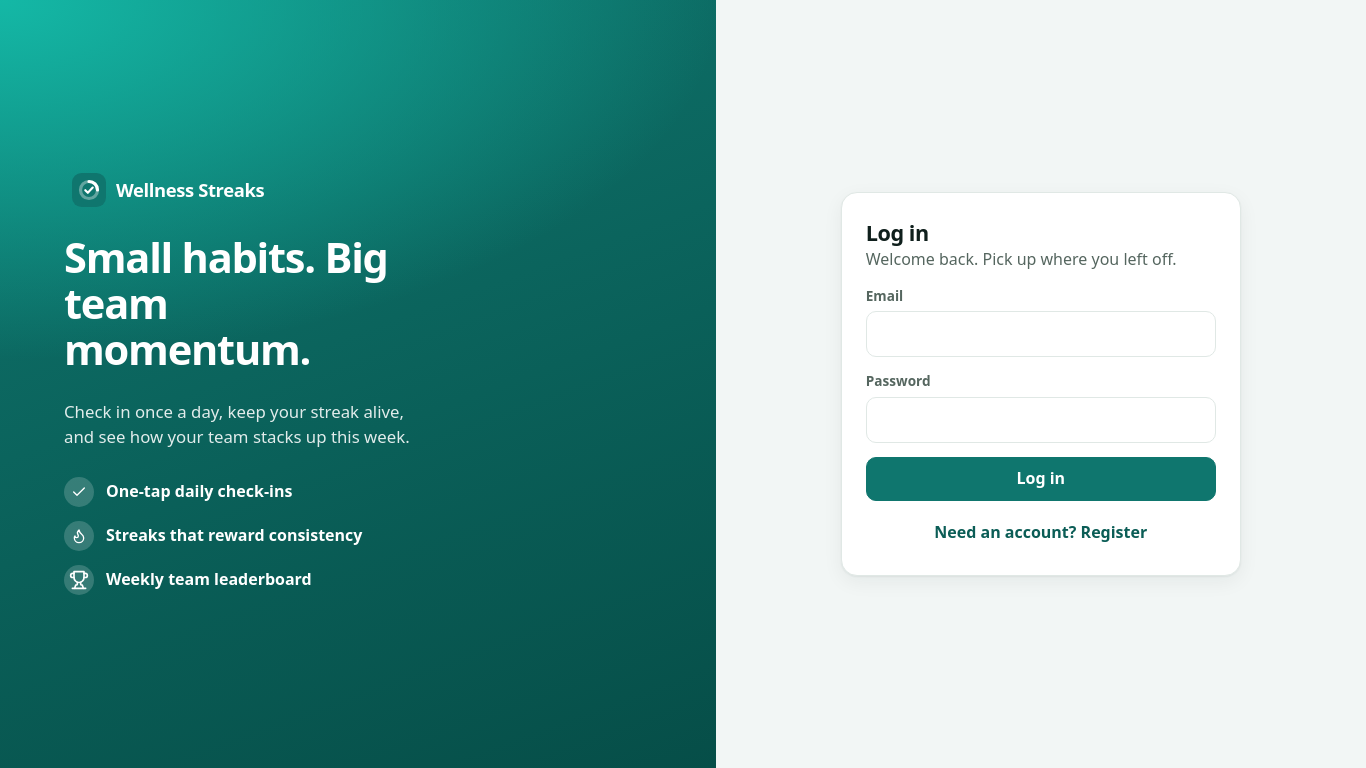
login flow › redirects to login, logs in, lands on Today
This screenshot has width=1366, height=768.
Expected: the heading "Log in" is shown, [866,218,929,247]
Type "user@example.com" into the field labelled "Email". click: (1041, 334)
box: [866,311,1216,357]
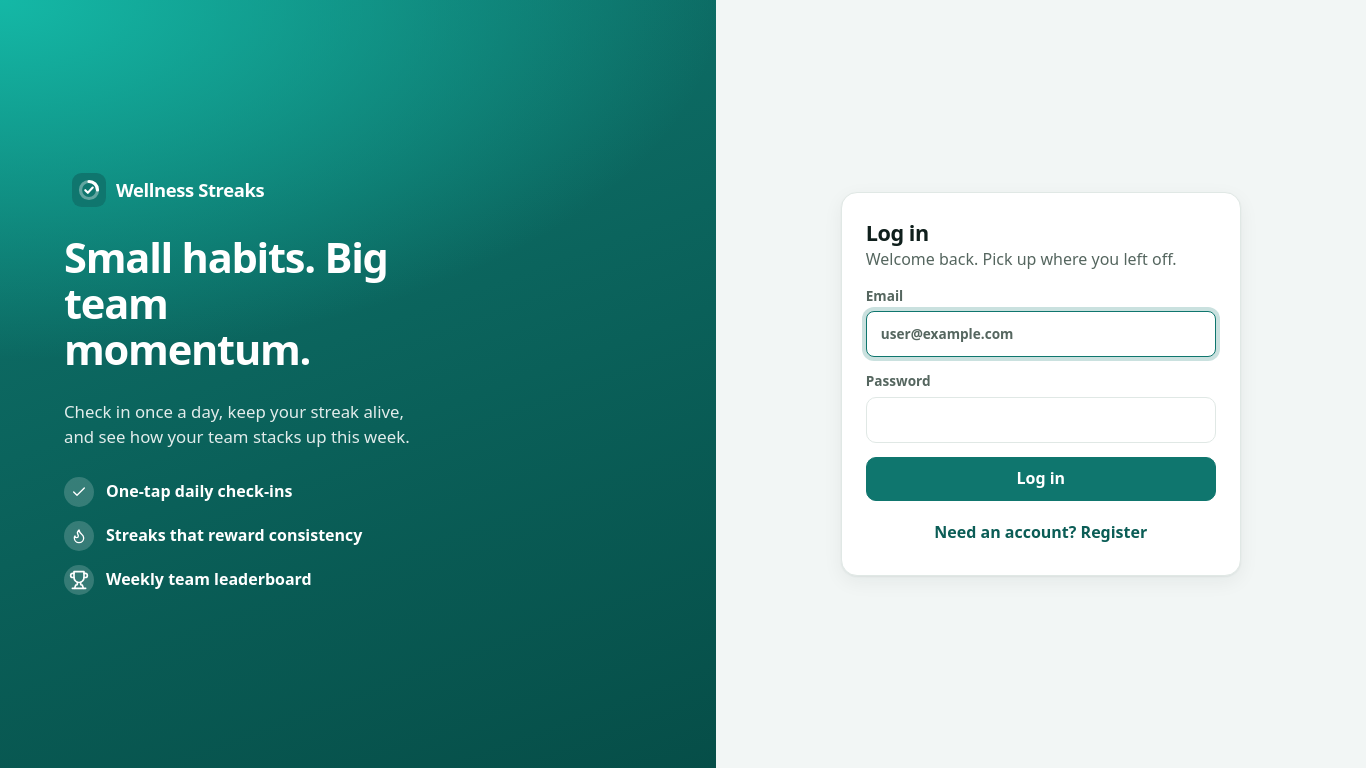
Type "password123" into the password field labelled "Password". click: (1041, 420)
box: [866,397,1216,443]
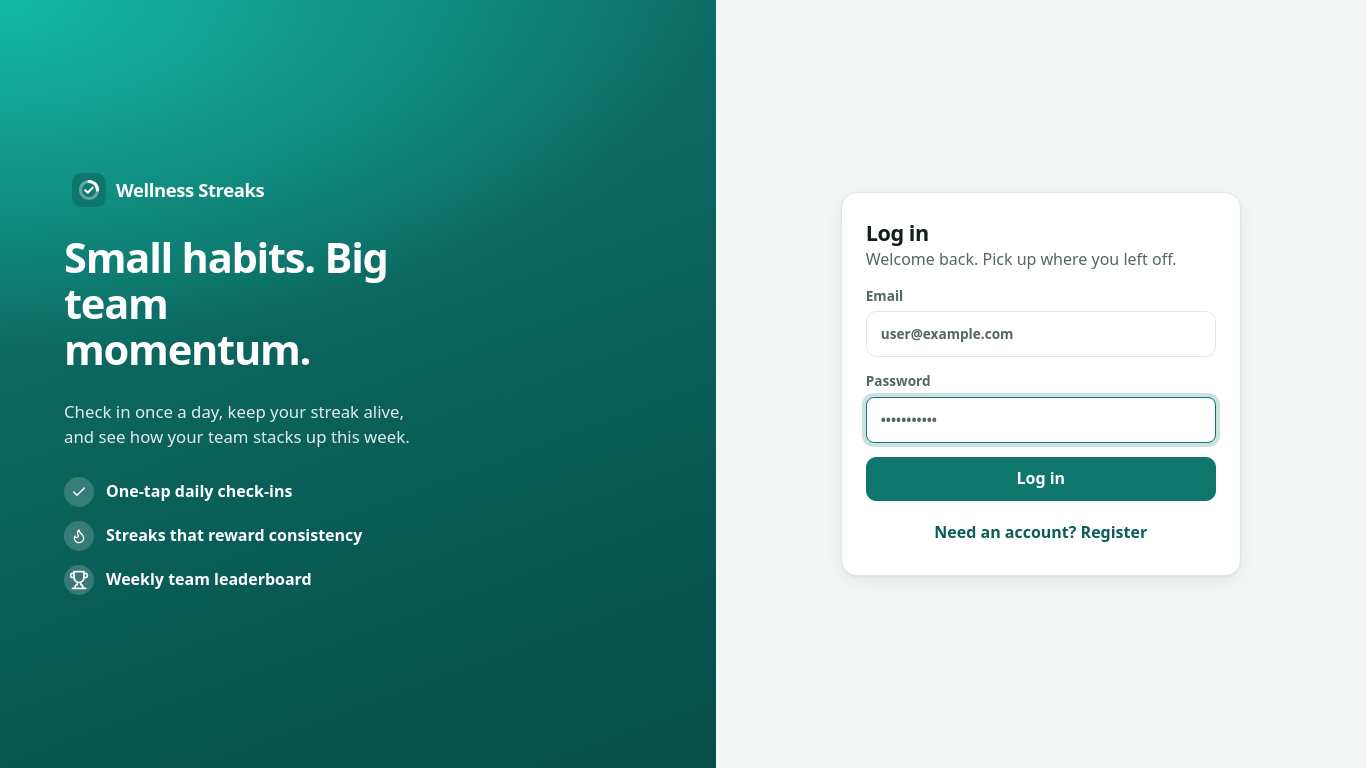
Click the button "Log in". click: (1041, 479)
box: [866,457,1216,501]
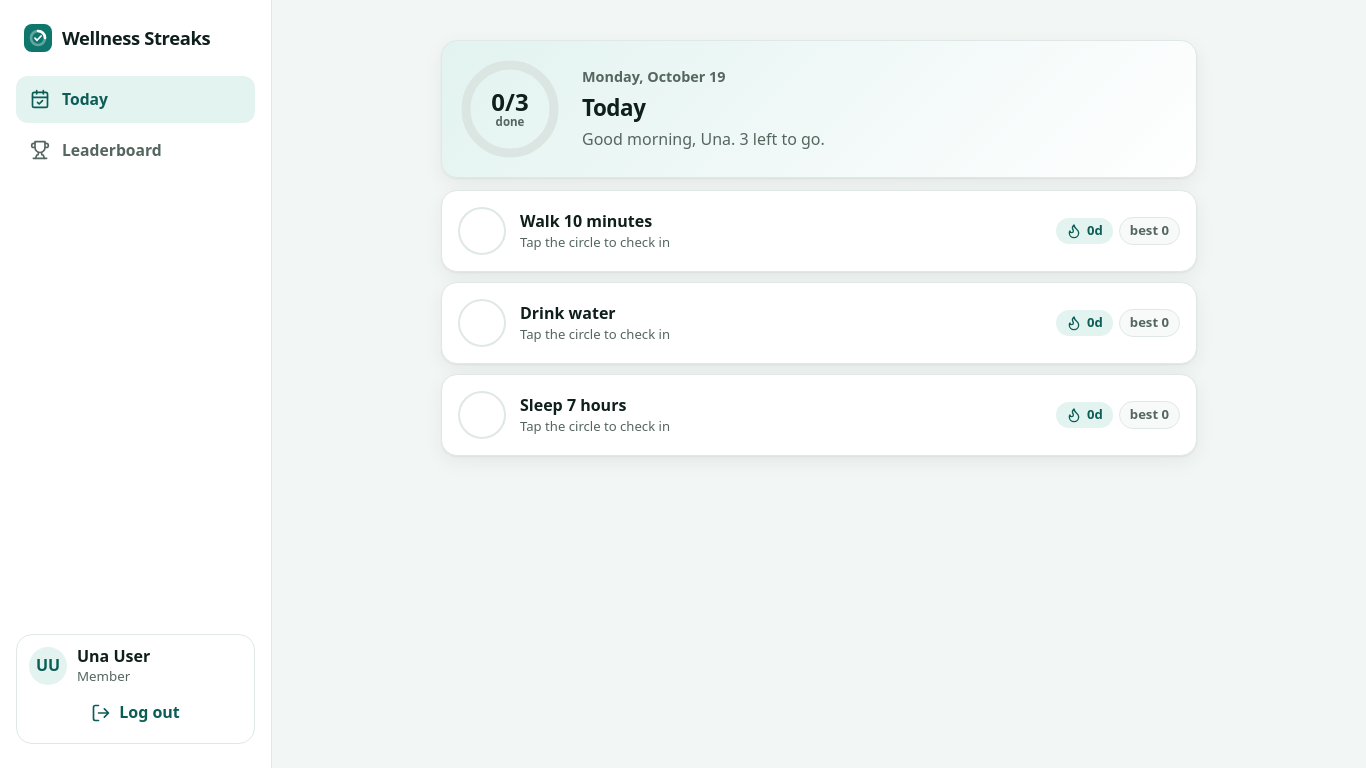
Result: the heading "Today" is shown at [582,92,646,123]
